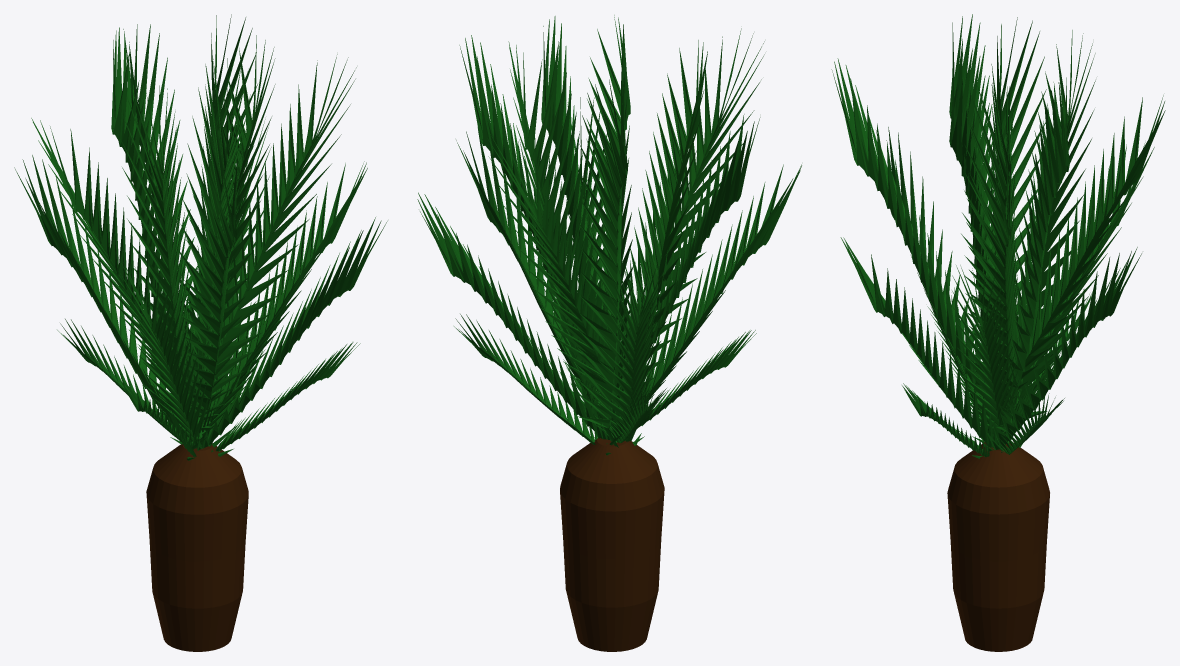
Rendered from sotol verde.glb.
3 renders of one model, left to right at view 1: azimuth 30°, elevation 25°; view 2: azimuth 150°, elevation 25°; view 3: azimuth 270°, elevation 25°, orthographic. The views are drawn at different scales.
Visible parts, largest first — view 1: Cylinder, Cube.003, Cube.007, Cube.001, Cube.010, Cube.009, Cube.012, Cube.008, Cube.013, Cube.014, Cube.004, Cube.006 (+6 smaller); view 2: Cylinder, Cube.006, Cube.002, Cube.007, Cube.013, Cube.005, Cube.011, Cube.001, Cube.008, Cube.004, Cube.012, Cube.009 (+6 smaller); view 3: Cylinder, Cube.002, Cube.008, Cube.005, Cube.003, Cube.010, Cube.006, Cube.014, Cube.011, Cube.009, Cube.001, Cube.004 (+5 smaller).
Boxes of the visible parts, box(x1,y1,x2,y2) form: Cylinder: box(146, 443, 248, 651); Cube.003: box(189, 54, 356, 430); Cube.007: box(121, 84, 195, 419); Cube.001: box(31, 118, 208, 423); Cube.010: box(181, 161, 367, 460); Cube.009: box(176, 58, 250, 409); Cube.012: box(14, 155, 196, 456); Cube.008: box(176, 159, 238, 426); Cube.013: box(120, 262, 216, 444); Cube.014: box(187, 217, 387, 458); Cube.004: box(183, 35, 275, 419); Cube.006: box(111, 27, 194, 361); Cylinder: box(560, 437, 664, 651); Cube.006: box(575, 78, 627, 428); Cube.002: box(488, 134, 626, 407); Cube.007: box(617, 40, 707, 418); Cube.013: box(605, 164, 801, 455); Cube.005: box(508, 41, 599, 417); Cube.011: box(417, 192, 610, 439); Cube.001: box(600, 114, 760, 426); Cube.008: box(603, 28, 764, 418); Cube.004: box(541, 16, 620, 419); Cube.012: box(593, 262, 661, 441); Cube.009: box(586, 15, 633, 420); Cylinder: box(947, 442, 1049, 651); Cube.002: box(987, 95, 1165, 430); Cube.008: box(831, 58, 988, 409); Cube.005: box(996, 77, 1069, 431); Cube.003: box(961, 157, 1017, 422); Cube.010: box(951, 265, 1022, 441); Cube.006: box(1014, 30, 1095, 418); Cube.014: box(840, 237, 999, 447); Cube.011: box(972, 247, 1141, 458); Cube.009: box(949, 48, 1004, 401); Cube.001: box(986, 17, 1046, 437); Cube.004: box(963, 83, 1015, 416).
Bounding box in the file's own units: 7.11 × 12.93 × 6.63.
